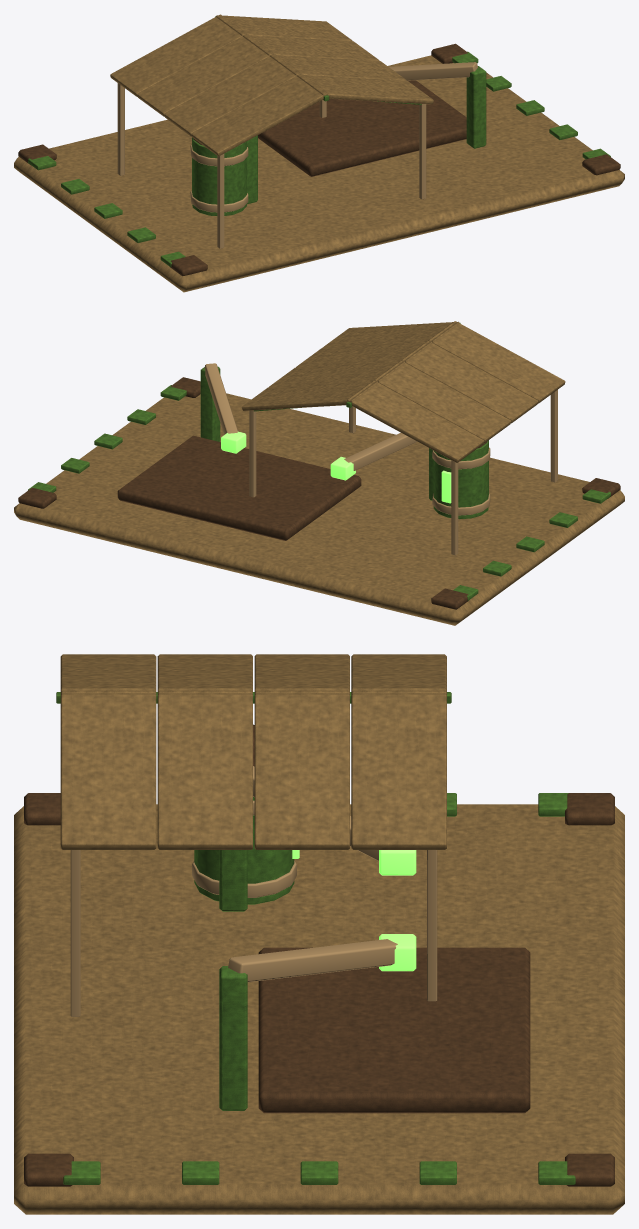
Rendered from vael_rebouteux.gltf.
The picture shows the model from 3 angles, top to bottom: view 1: azimuth 30°, elevation 25°; view 2: azimuth 150°, elevation 25°; view 3: azimuth 270°, elevation 25°; orthographic projection. The views are drawn at different scales.
Parts seen in each view (by area): view 1: Root.010_Geometry, Arm_1.76_Geometry; view 2: Root.010_Geometry, Arm_1.76_Geometry, Arm_-1.26_Geometry; view 3: Root.010_Geometry, Arm_1.76_Geometry, Arm_-1.26_Geometry.
Part boxes in pixels (<box>): Root.010_Geometry: <box>14,14,624,292</box>; Arm_1.76_Geometry: <box>389,62,477,80</box>; Root.010_Geometry: <box>14,321,624,625</box>; Arm_1.76_Geometry: <box>204,363,246,453</box>; Arm_-1.26_Geometry: <box>330,433,416,480</box>; Root.010_Geometry: <box>14,654,624,1214</box>; Arm_1.76_Geometry: <box>228,934,416,982</box>; Arm_-1.26_Geometry: <box>253,766,416,875</box>.
Bounding box in the file's own units: 5.91 × 1.96 × 3.91.
Materials: 5 (3 with a texture image).
